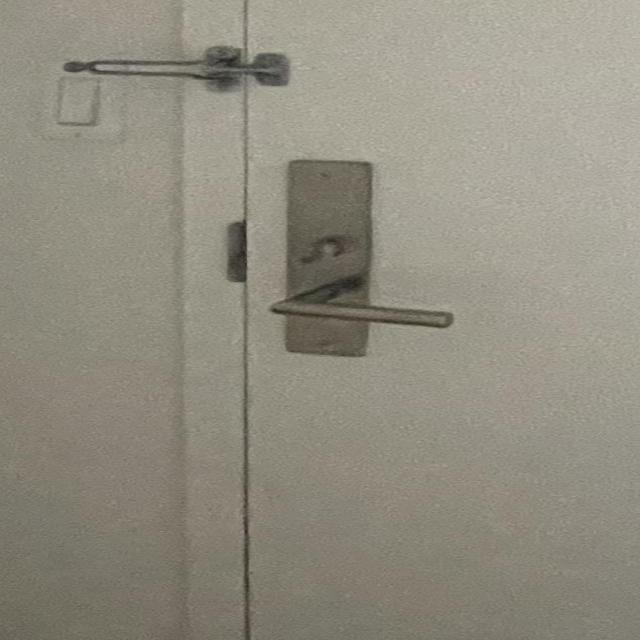door_handle: (250, 278, 471, 346)
